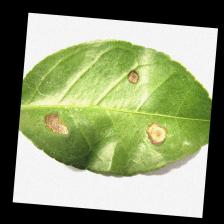canker: (29, 59, 174, 149)
